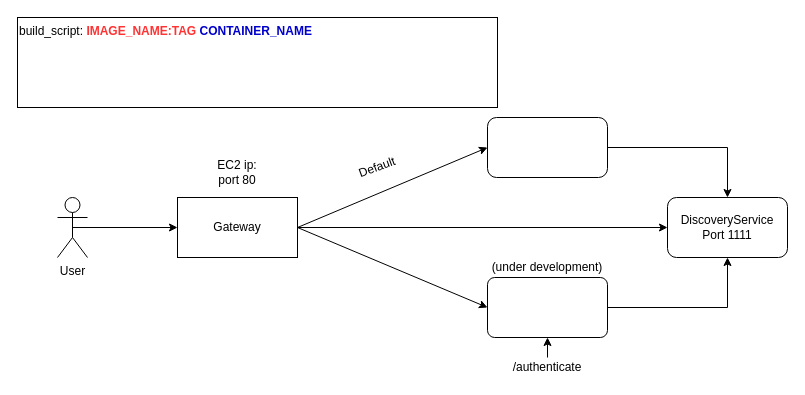
Image size: 805x395. Some labels were removed from this diagram. The centre of each missing label's shape, as x and y in pixels:
"AuthenticationService Port 8081" goes at pixel 547 307.
"MapService Port 5000" goes at pixel 547 147.
